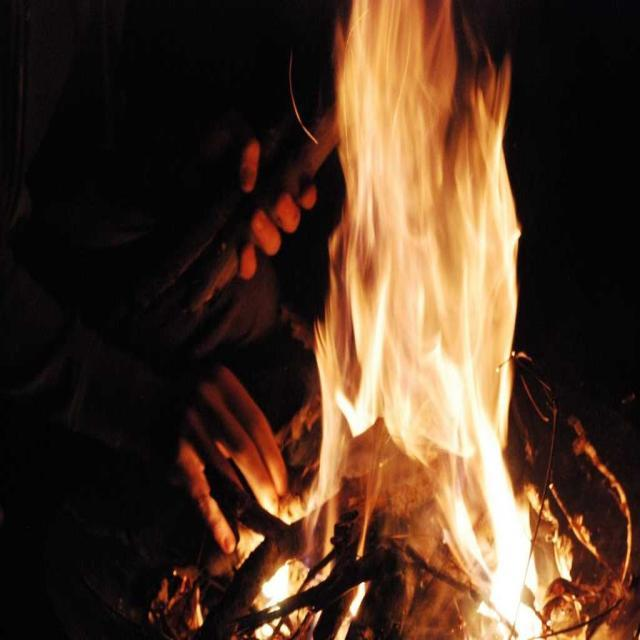Fire: (338, 67, 526, 453)
